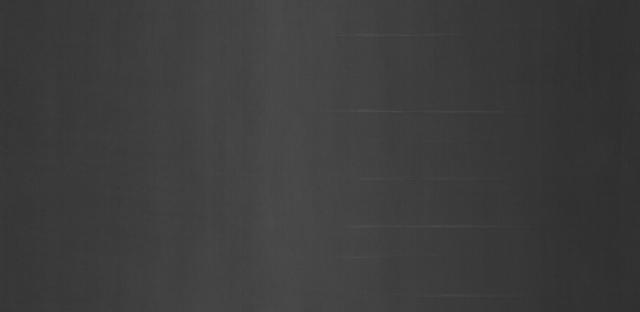waist_folding: (351, 28, 542, 270)
